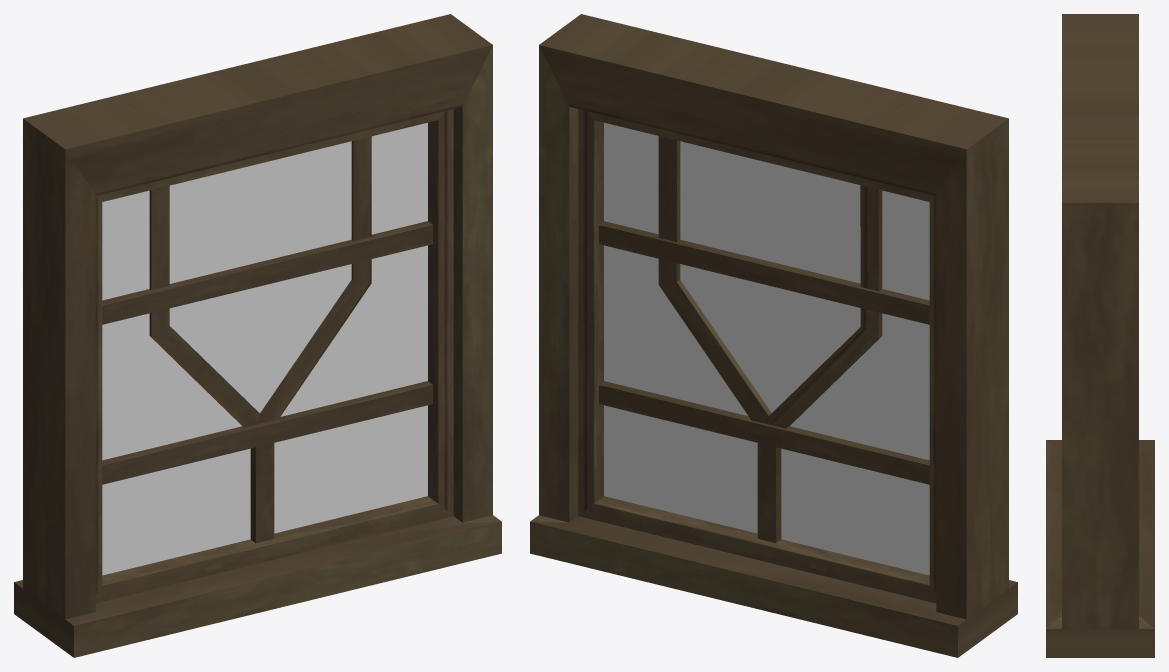
File: window01.glb
3 renders of one model, left to right at view 1: azimuth 30°, elevation 25°; view 2: azimuth 150°, elevation 25°; view 3: azimuth 270°, elevation 25°, orthographic. The views are drawn at different scales.
Visible parts, largest first — view 1: window01; view 2: window01; view 3: window01.
Boxes of the visible parts, left/top/right/bottom form: window01: left=14, top=14, right=501, bottom=657; window01: left=530, top=14, right=1017, bottom=657; window01: left=1046, top=14, right=1154, bottom=657.
Bounding box in the file's own units: 1.4 × 1.57 × 0.34.
Materials: 2 (1 with a texture image).
